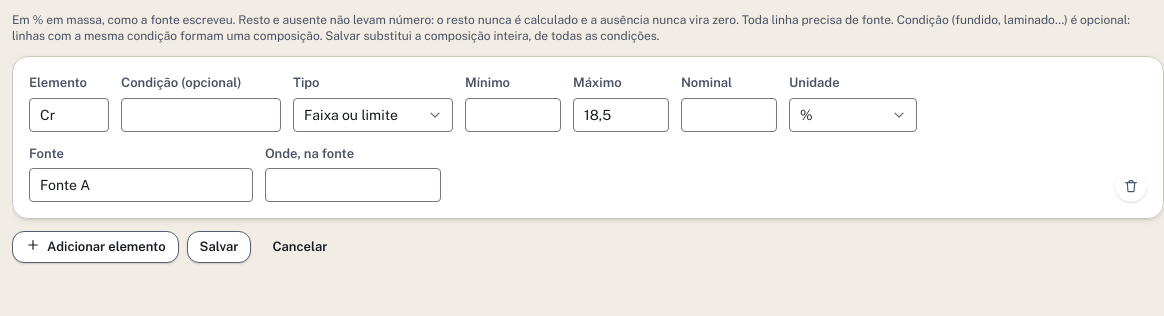
Test case: edição da composição (TM2-a) › refuses a number it cannot read instead of sending it
The width and height of the screenshot is (1164, 316).
In the field labelled "Mínimo": (513, 114) [465,98,561,132], type "abc"
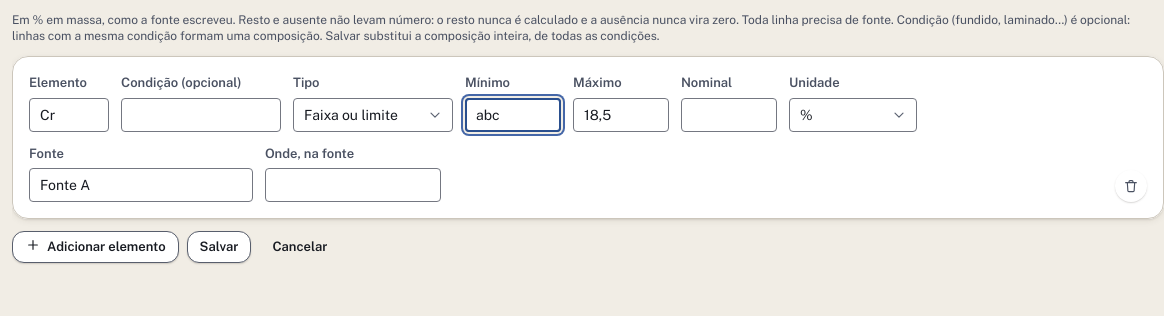
Click the button "Salvar": (219, 247) [187,231,252,263]
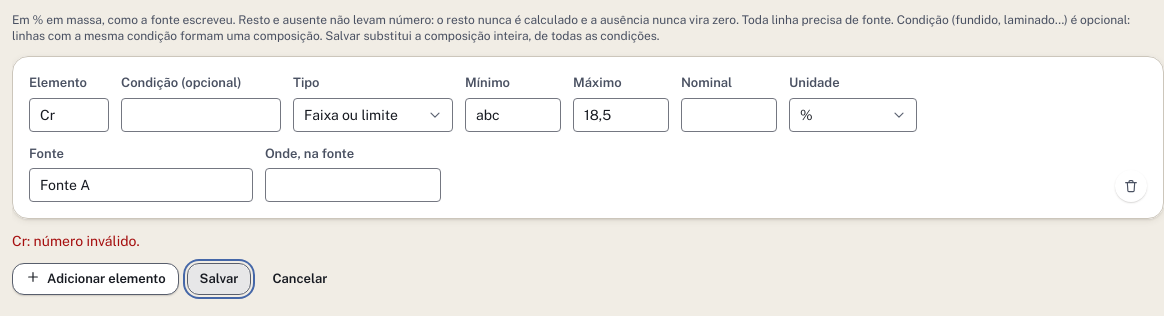
Expected: the message shows "número inválido", [12,233,140,249]
